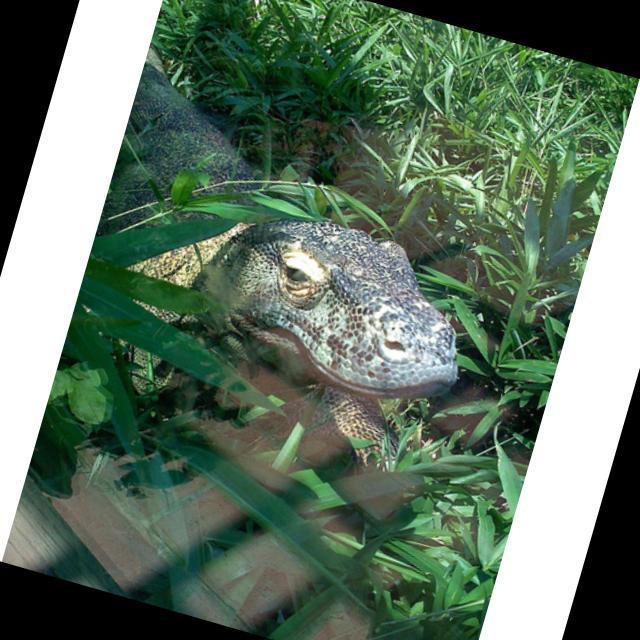KomodoDragon: (46, 52, 521, 525)
